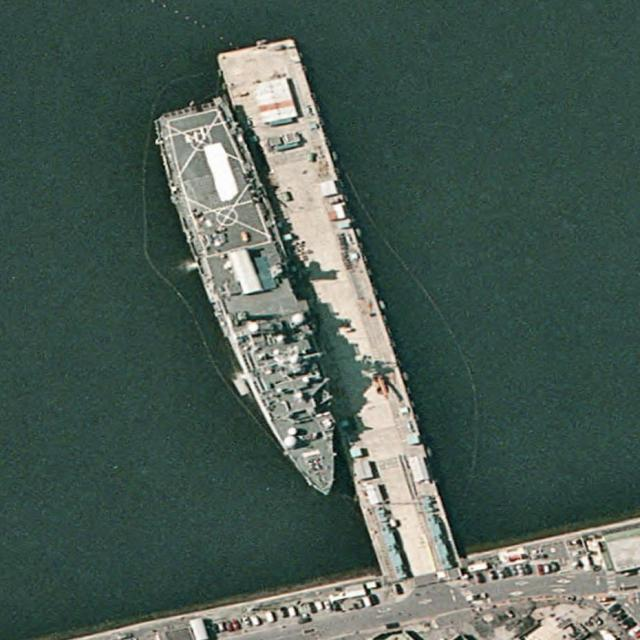Dock: (215, 30, 463, 591)
Landing: (143, 89, 366, 517)
